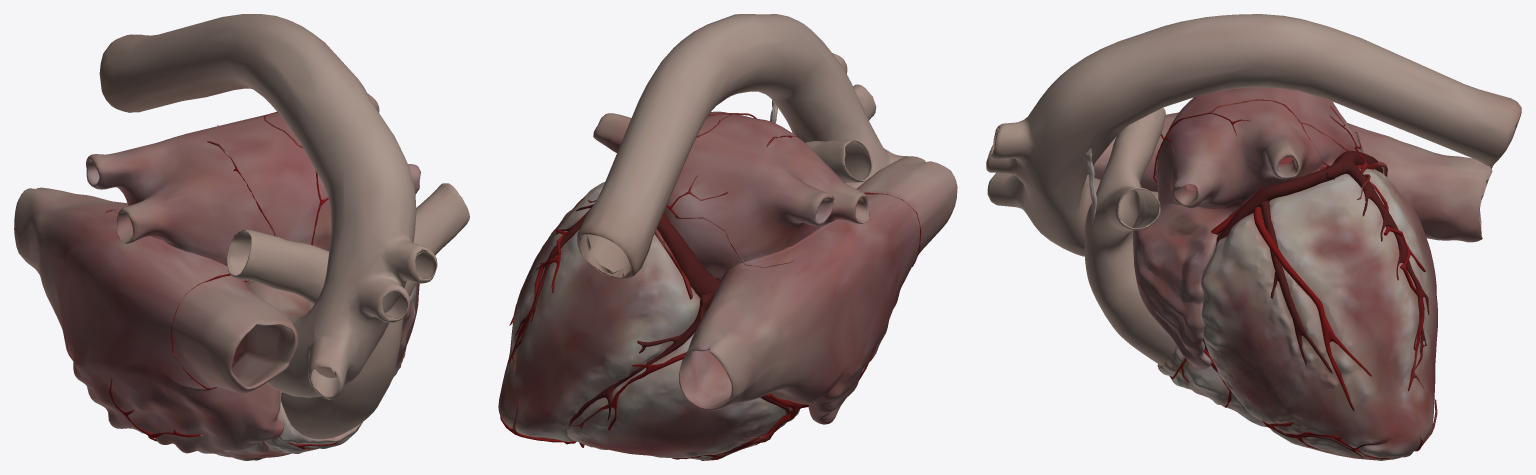
File: heart.glb
3 renders of one model, left to right at view 1: azimuth 30°, elevation 25°; view 2: azimuth 150°, elevation 25°; view 3: azimuth 270°, elevation 25°, orthographic. The views are drawn at different scales.
Parts seen in each view (by area): view 1: MM634_BP51951_FMA4706_Coronary_sinus835; view 2: MM634_BP51951_FMA4706_Coronary_sinus835; view 3: MM634_BP51951_FMA4706_Coronary_sinus835.
Part boxes in pixels (x1,y1,x2,y2): MM634_BP51951_FMA4706_Coronary_sinus835: (14,14,469,460); MM634_BP51951_FMA4706_Coronary_sinus835: (498,14,957,460); MM634_BP51951_FMA4706_Coronary_sinus835: (986,14,1521,460).
Bounding box in the file's own units: 21.52 × 25.71 × 30.62.
